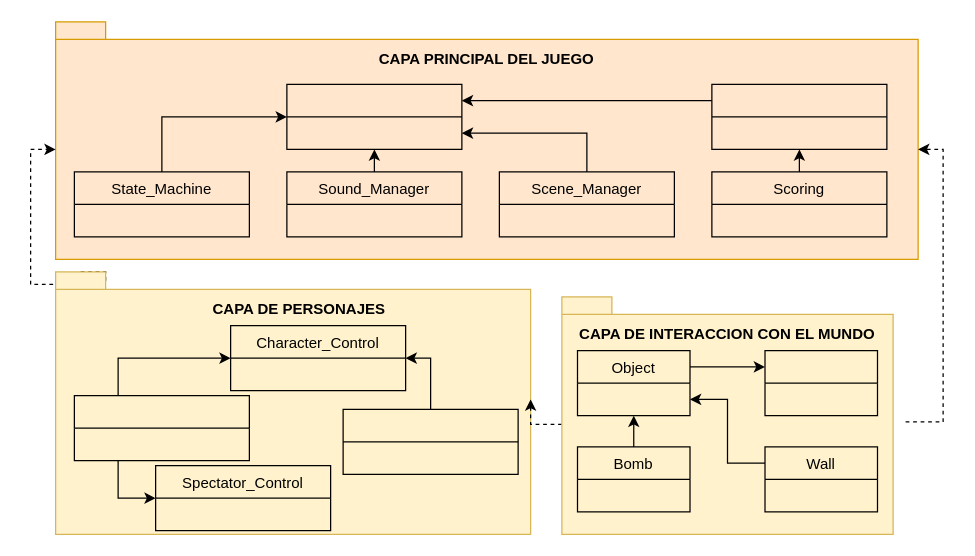
Some shapes in this 975 by 556 pixel diagram are drawn without their labels. The box of each missing label's shape, as (x1, y1, x2, y2) in pixels:
Data_Manager: (711, 83, 887, 149)
Game_Manager: (286, 83, 462, 149)
Non_Playable_Character: (342, 408, 518, 474)
Player: (73, 394, 249, 461)
Scene: (764, 349, 878, 416)
